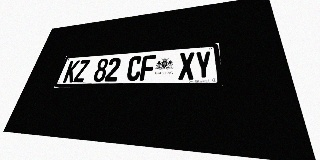2: (104, 57, 122, 82)
8: (92, 58, 110, 82)
C: (126, 56, 143, 81)
F: (139, 55, 156, 81)
K: (62, 60, 80, 83)
X: (178, 52, 195, 80)
Y: (195, 51, 213, 79)
Z: (73, 59, 90, 82)
